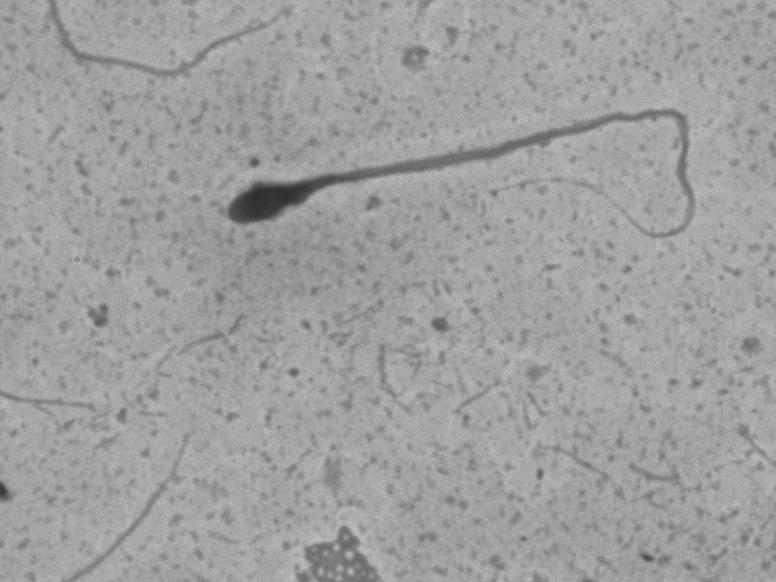Abnormal: (210, 92, 713, 276)
